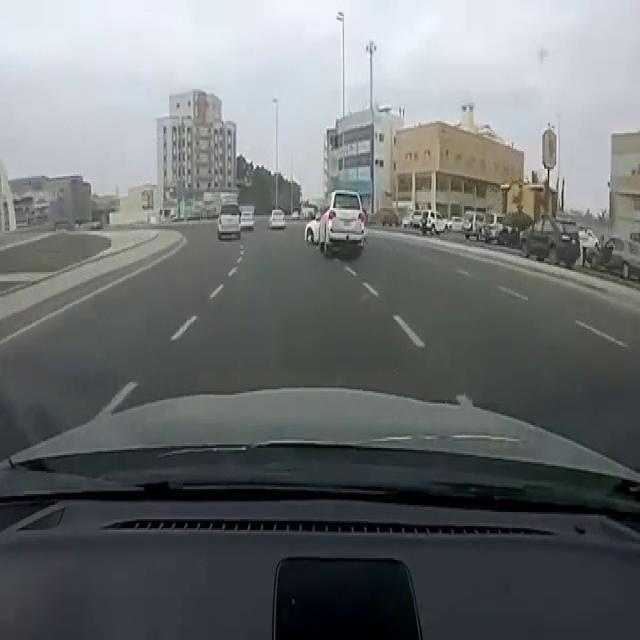moderate: (300, 184, 369, 264)
